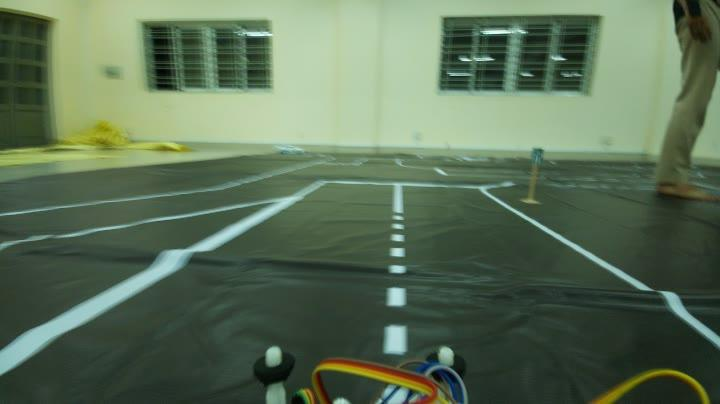highway_entry: (524, 142, 546, 167)
